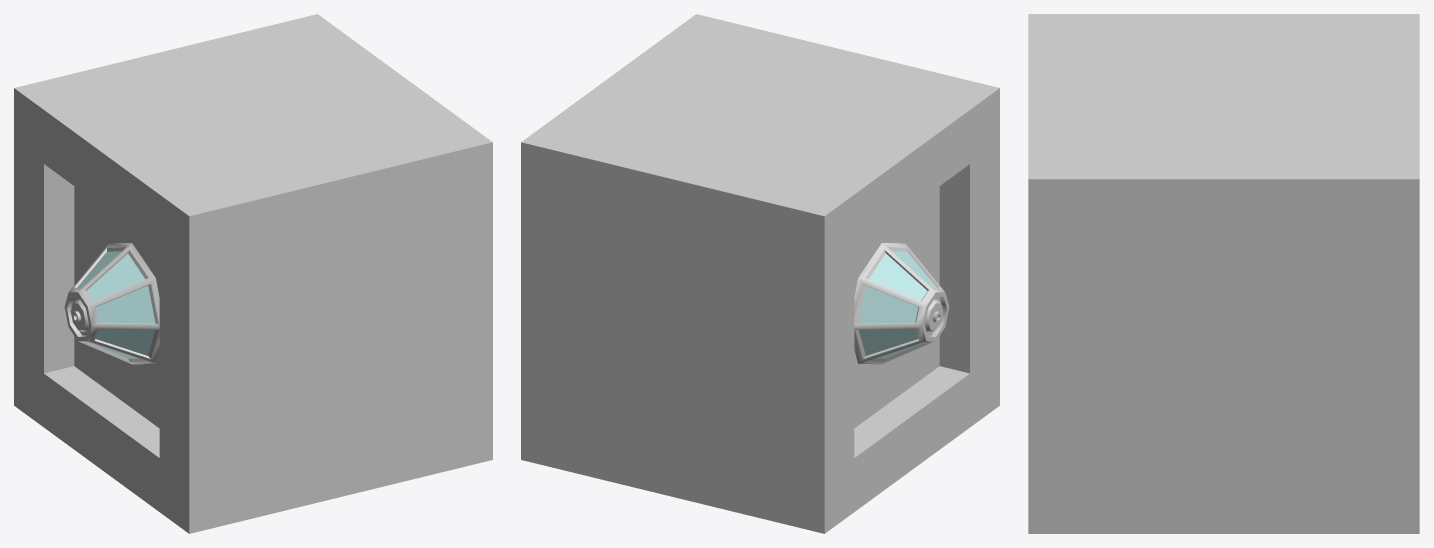
File: laser.fbx
3 renders of one model, left to right at view 1: azimuth 30°, elevation 25°; view 2: azimuth 150°, elevation 25°; view 3: azimuth 270°, elevation 25°, orthographic. The views are drawn at different scales.
Parts seen in each view (by area): view 1: Cube.001; view 2: Cube.001; view 3: Cube.001.
Boxes of the visible parts, <box> form: Cube.001: <box>14,14,492,533</box>; Cube.001: <box>521,14,999,533</box>; Cube.001: <box>1028,14,1419,533</box>.
Bounding box in the file's own units: 1.09 × 1 × 1.
